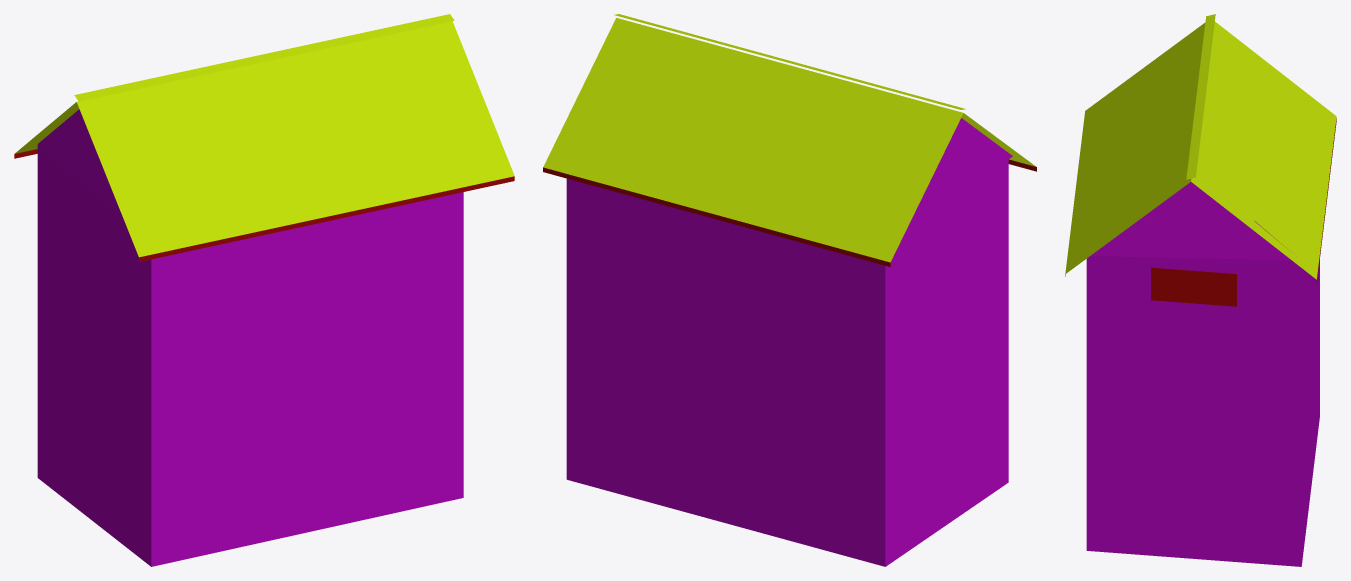
File: bgj_289.glb
3 renders of one model, left to right at view 1: azimuth 30°, elevation 25°; view 2: azimuth 150°, elevation 25°; view 3: azimuth 270°, elevation 25°, orthographic. The views are drawn at different scales.
Visible parts, largest first — view 1: bgj_289; view 2: bgj_289; view 3: bgj_289.
Boxes of the visible parts, box(x1,y1,x2,y2) form: bgj_289: box(14, 14, 514, 566); bgj_289: box(543, 14, 1036, 566); bgj_289: box(1065, 14, 1336, 566).
Bounding box in the file's own units: 10.01 × 10.88 × 6.79.
